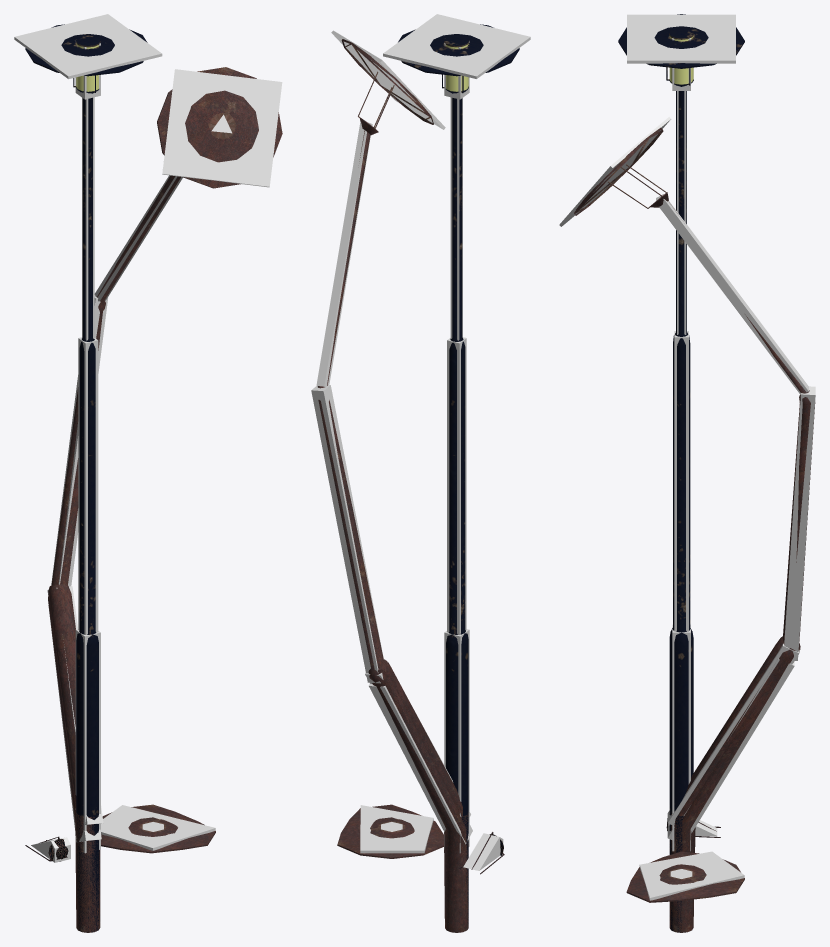
Rendered from VOGD_M_LIGHTING_POLE_004.FBX.
3 renders of one model, left to right at view 1: azimuth 30°, elevation 25°; view 2: azimuth 150°, elevation 25°; view 3: azimuth 270°, elevation 25°, orthographic.
Parts seen in each view (by area): view 1: LOD0_D0, LOD0_D1, Box010, LOD0_D2, Box005, Box002, Box012, Box003, Box007, Box001, Box008; view 2: LOD0_D0, LOD0_D1, Box005, Box007, LOD0_D2, Box008, Box002, Box012, Box006, Box003, Box010, Box001 (+2 smaller); view 3: LOD0_D0, LOD0_D1, LOD0_D2, Box005, Box007, Box008, Box012, Box002, Box006, Box011, Box001, Box003 (+1 smaller).
Boxes of the visible parts, x1,y1,x2,y2 form: LOD0_D0: [25, 24, 147, 932]; LOD0_D1: [48, 67, 282, 929]; Box010: [162, 69, 282, 187]; LOD0_D2: [25, 584, 215, 932]; Box005: [14, 14, 162, 79]; Box002: [78, 337, 98, 634]; Box012: [101, 805, 215, 850]; Box003: [82, 97, 94, 340]; Box007: [51, 295, 107, 586]; Box001: [75, 629, 100, 853]; Box008: [94, 175, 182, 301]; LOD0_D0: [398, 24, 519, 932]; LOD0_D1: [317, 39, 467, 932]; Box005: [383, 14, 530, 78]; Box007: [311, 385, 383, 683]; LOD0_D2: [337, 659, 504, 929]; Box008: [316, 121, 372, 386]; Box002: [447, 337, 466, 634]; Box012: [360, 805, 433, 853]; Box006: [368, 683, 472, 844]; Box003: [450, 97, 462, 340]; Box010: [331, 30, 445, 129]; Box001: [444, 629, 469, 853]; LOD0_D0: [618, 14, 744, 932]; LOD0_D1: [574, 127, 815, 932]; LOD0_D2: [626, 636, 789, 932]; Box005: [627, 14, 735, 63]; Box007: [784, 386, 815, 660]; Box008: [656, 194, 808, 394]; Box012: [639, 851, 744, 900]; Box002: [674, 331, 688, 631]; Box006: [667, 658, 794, 839]; Box011: [667, 643, 799, 825]; Box001: [672, 624, 690, 851]; Box003: [677, 91, 686, 334].
Size of the model in its own units: 33.16 by 34.11 by 131.
Materials: 1 (1 with a texture image).
